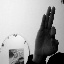f: (34, 6, 59, 53)
